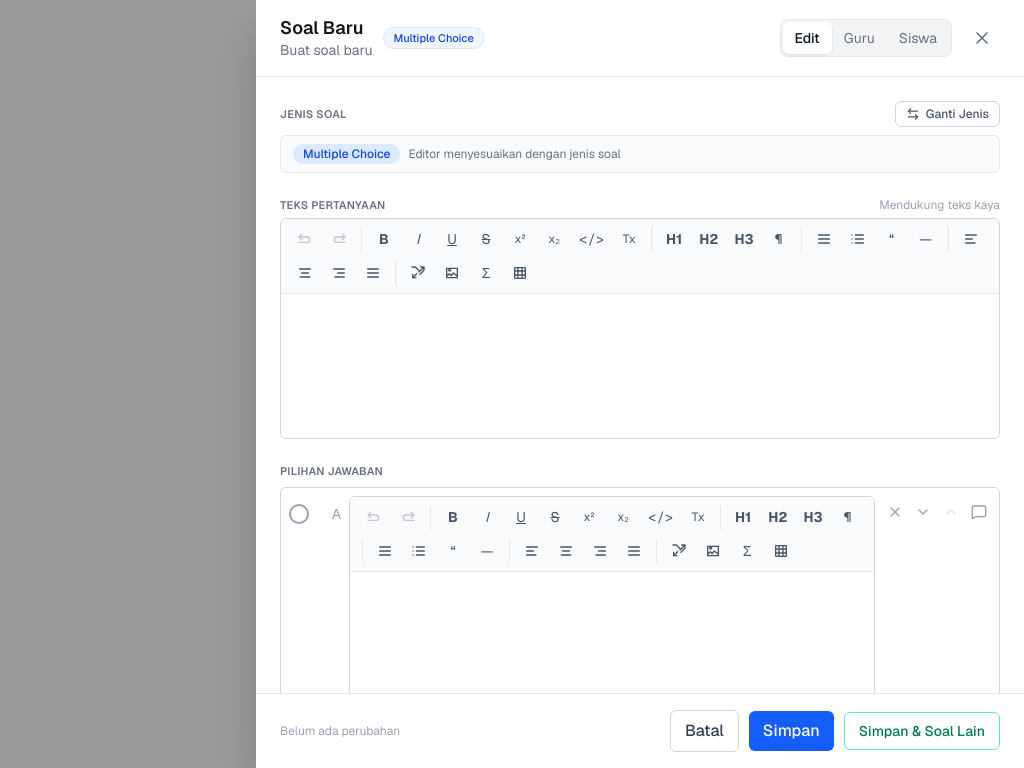
Test: QuestionEditor — ganti jenis soal › grid jenis tersembunyi di balik tombol "Ganti Jenis"
Expected: the text with test id "current-question-type" reads "Multiple Choice", [303,146,390,162]
Click the button with test id "question-type-switch": x=947, y=114 [895,101,1000,127]
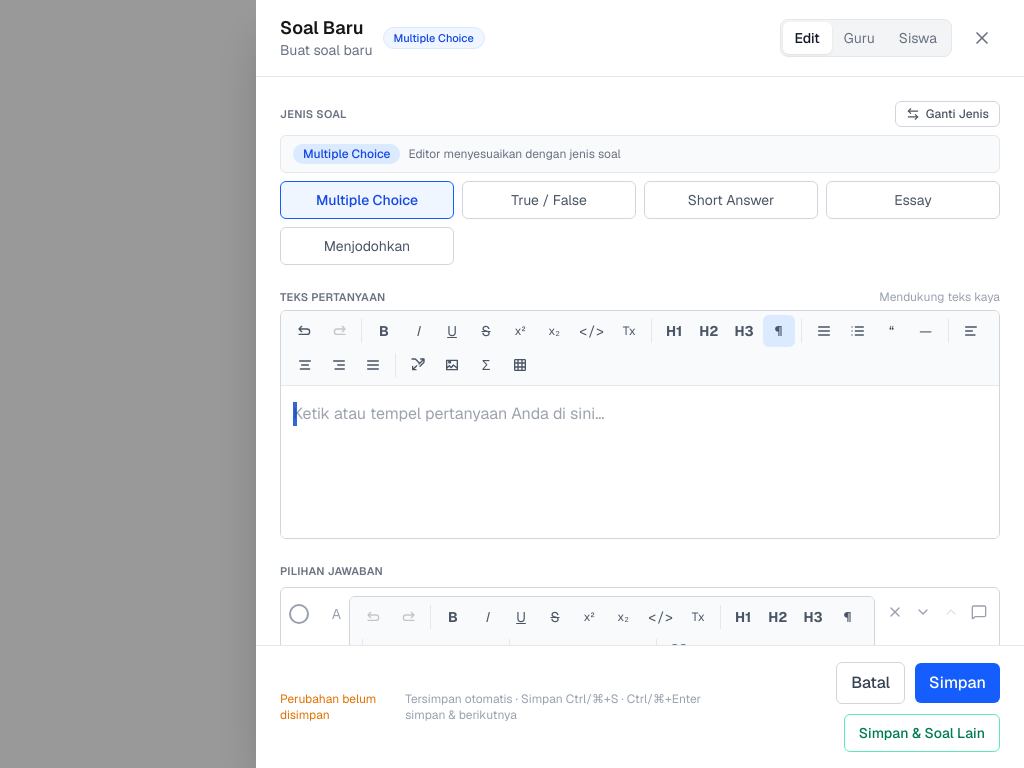
Result: the element with test id "question-type-picker" is shown at [280,181,1000,265]
